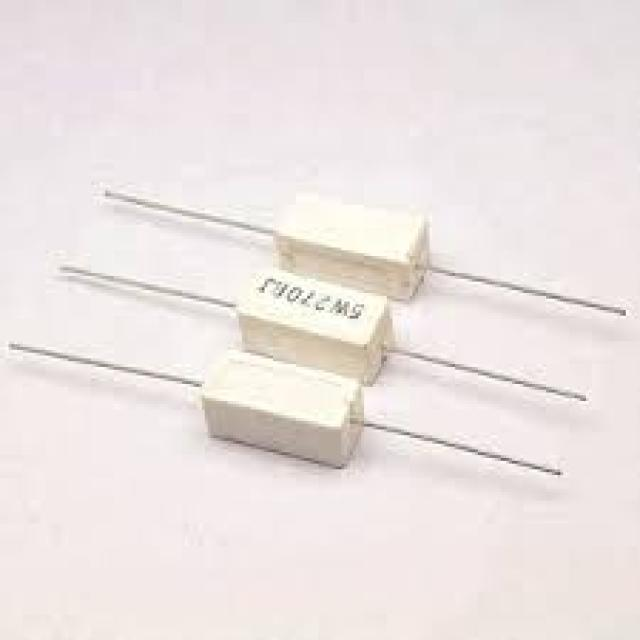Resistor: (198, 348, 368, 471), (236, 268, 394, 386), (270, 193, 431, 303)
